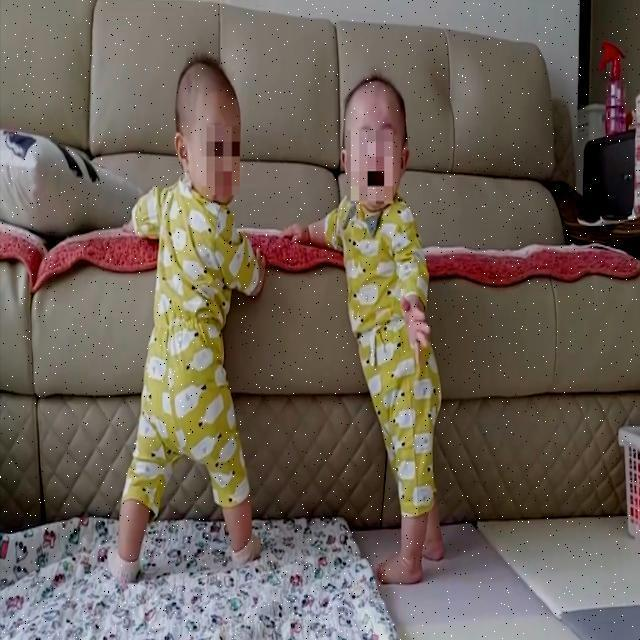child: (277, 55, 442, 573), (106, 46, 254, 590)
